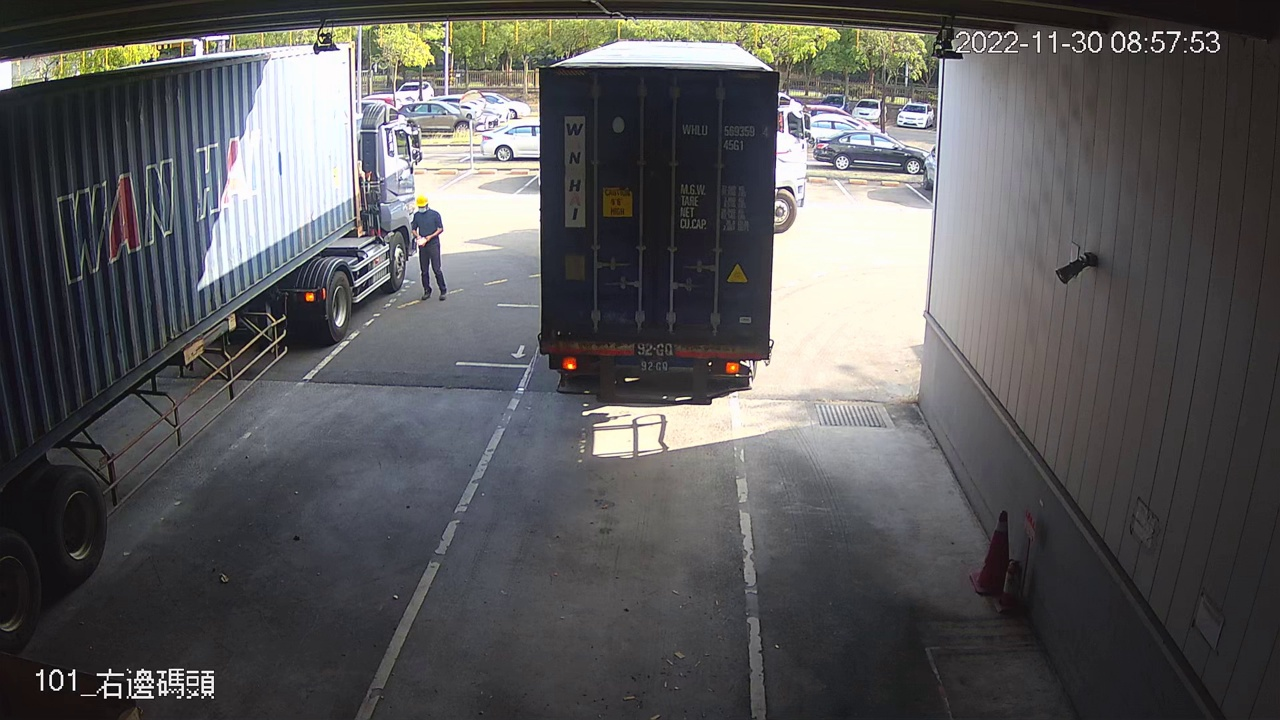container: (679, 116, 773, 157)
